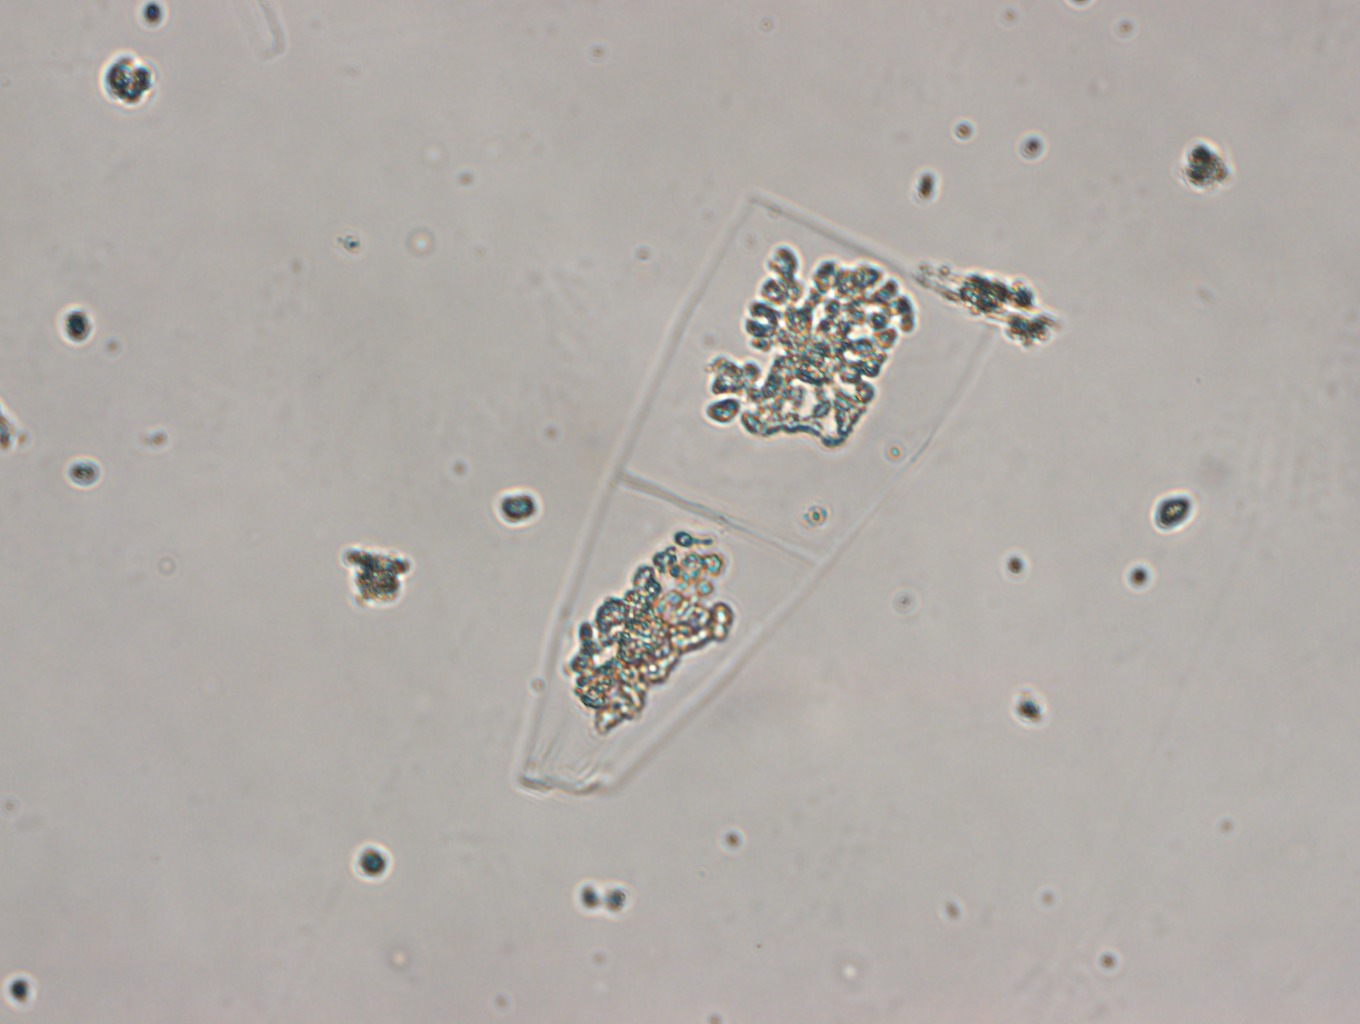helicotheca: (506, 202, 994, 802)
